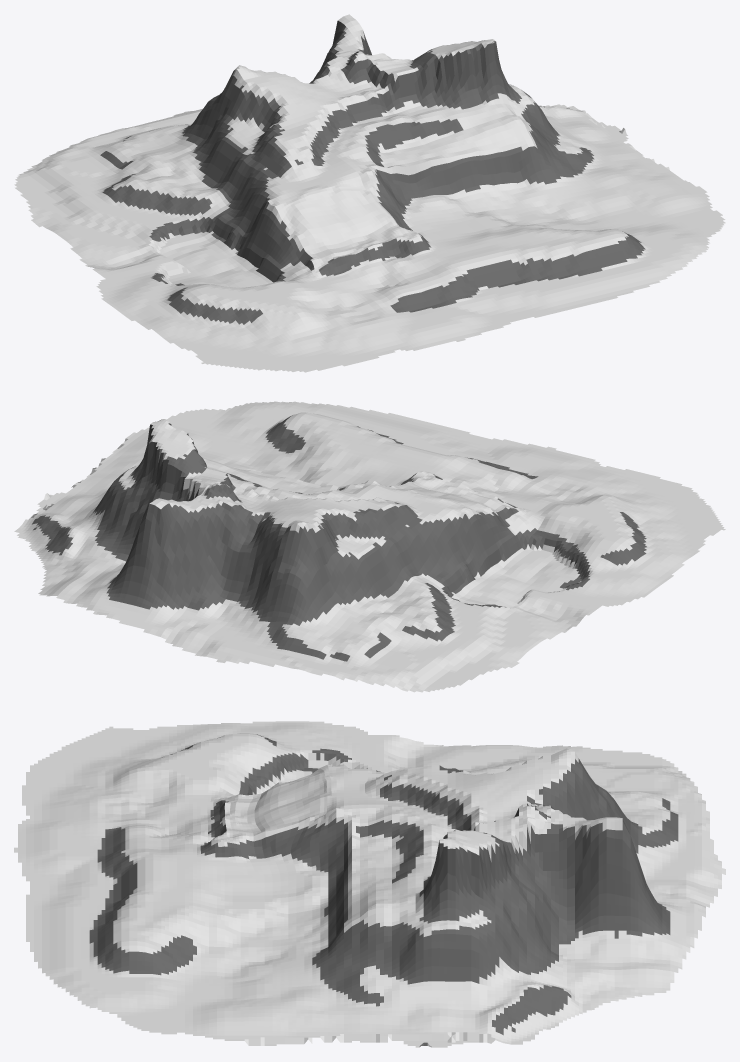
Rendered from Mountain.fbx.
3 renders of one model, top to bottom at view 1: azimuth 30°, elevation 25°; view 2: azimuth 150°, elevation 25°; view 3: azimuth 270°, elevation 25°, orthographic. The views are drawn at different scales.
Parts seen in each view (by area): view 1: Mountain; view 2: Mountain; view 3: Mountain.
Boxes of the visible parts, left/top/right/bottom form: Mountain: left=14, top=14, right=725, bottom=372; Mountain: left=14, top=401, right=725, bottom=692; Mountain: left=14, top=721, right=725, bottom=1047.
Bounding box in the file's own units: 189143 × 38957 × 177228.
